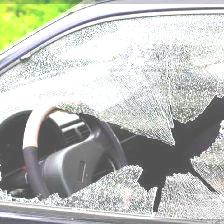glass_shatter: (6, 48, 218, 214)
